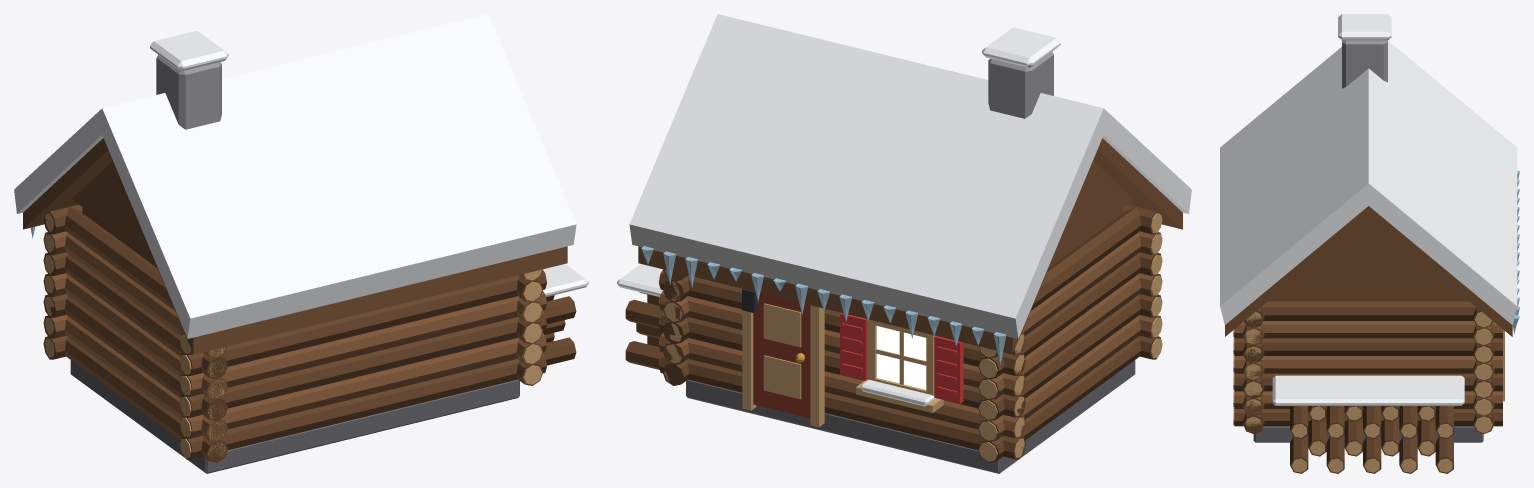
The model's file is LogCabin.fbx.
3 renders of one model, left to right at view 1: azimuth 30°, elevation 25°; view 2: azimuth 150°, elevation 25°; view 3: azimuth 270°, elevation 25°, orthographic. The views are drawn at different scales.
Parts seen in each view (by area): view 1: LogCabin_Snow, LogCabin_WoodDark, LogCabin_Bark, LogCabin_StoneDark, LogCabin_WoodLight, LogCabin_Stone; view 2: LogCabin_Snow, LogCabin_WoodDark, LogCabin_Bark, LogCabin_WoodLight, LogCabin_StoneDark, LogCabin_WoodRed, LogCabin_Red, LogCabin_Stone, LogCabin_Ice, LogCabin_WindowGlow; view 3: LogCabin_Snow, LogCabin_WoodDark, LogCabin_Bark, LogCabin_WoodLight, LogCabin_Stone, LogCabin_StoneDark, LogCabin_Ice.
Part boxes in pixels (x1=…): LogCabin_Snow: x1=14, y1=14, x2=588, y2=338; LogCabin_WoodDark: x1=23, y1=138, x2=567, y2=441; LogCabin_Bark: x1=43, y1=204, x2=576, y2=462; LogCabin_StoneDark: x1=70, y1=360, x2=519, y2=473; LogCabin_WoodLight: x1=44, y1=213, x2=542, y2=459; LogCabin_Stone: x1=156, y1=55, x2=221, y2=129; LogCabin_Snow: x1=617, y1=14, x2=1191, y2=406; LogCabin_WoodDark: x1=638, y1=138, x2=1182, y2=441; LogCabin_Bark: x1=625, y1=204, x2=1162, y2=462; LogCabin_WoodLight: x1=658, y1=213, x2=1162, y2=461; LogCabin_StoneDark: x1=686, y1=360, x2=1135, y2=473; LogCabin_WoodRed: x1=753, y1=293, x2=810, y2=418; LogCabin_Red: x1=840, y1=313, x2=963, y2=403; LogCabin_Stone: x1=988, y1=52, x2=1053, y2=118; LogCabin_Ice: x1=641, y1=246, x2=1006, y2=364; LogCabin_WindowGlow: x1=876, y1=326, x2=926, y2=389; LogCabin_Snow: x1=1220, y1=14, x2=1517, y2=405; LogCabin_WoodDark: x1=1225, y1=206, x2=1512, y2=416; LogCabin_Bark: x1=1234, y1=301, x2=1502, y2=473; LogCabin_WoodLight: x1=1233, y1=311, x2=1504, y2=472; LogCabin_Stone: x1=1342, y1=40, x2=1387, y2=88; LogCabin_StoneDark: x1=1253, y1=426, x2=1483, y2=442; LogCabin_Ice: x1=1512, y1=170, x2=1519, y2=334.
Size of the model in its own units: 21.9 by 17.9 by 15.64.
